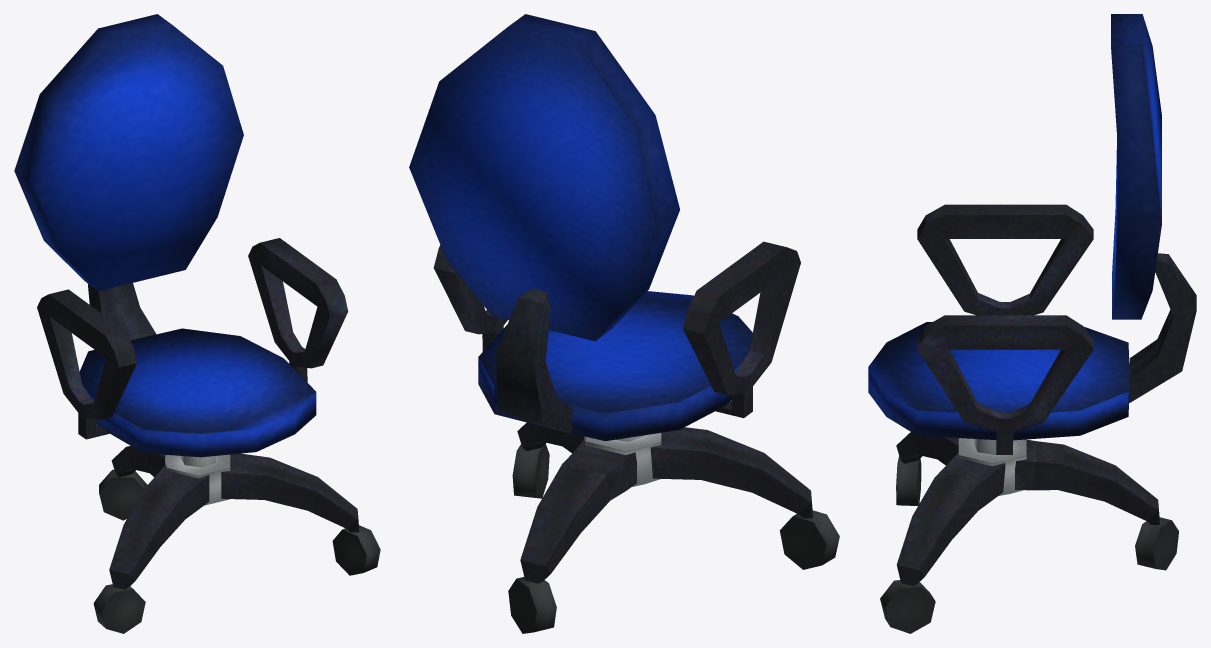
Rendered from chair.FBX.
3 views of the same model, side by side, from view 1: azimuth 30°, elevation 25°; view 2: azimuth 150°, elevation 25°; view 3: azimuth 270°, elevation 25° (orthographic). The views are drawn at different scales.
Visible parts, largest first — view 1: chair; view 2: chair; view 3: chair.
Part boxes in pixels (left/top/right/bottom): chair: left=14, top=14, right=380, bottom=633; chair: left=409, top=14, right=839, bottom=633; chair: left=868, top=14, right=1196, bottom=633.
Size of the model in its own units: 24.26 by 42.71 by 23.66.
1 material, 1 textured.
